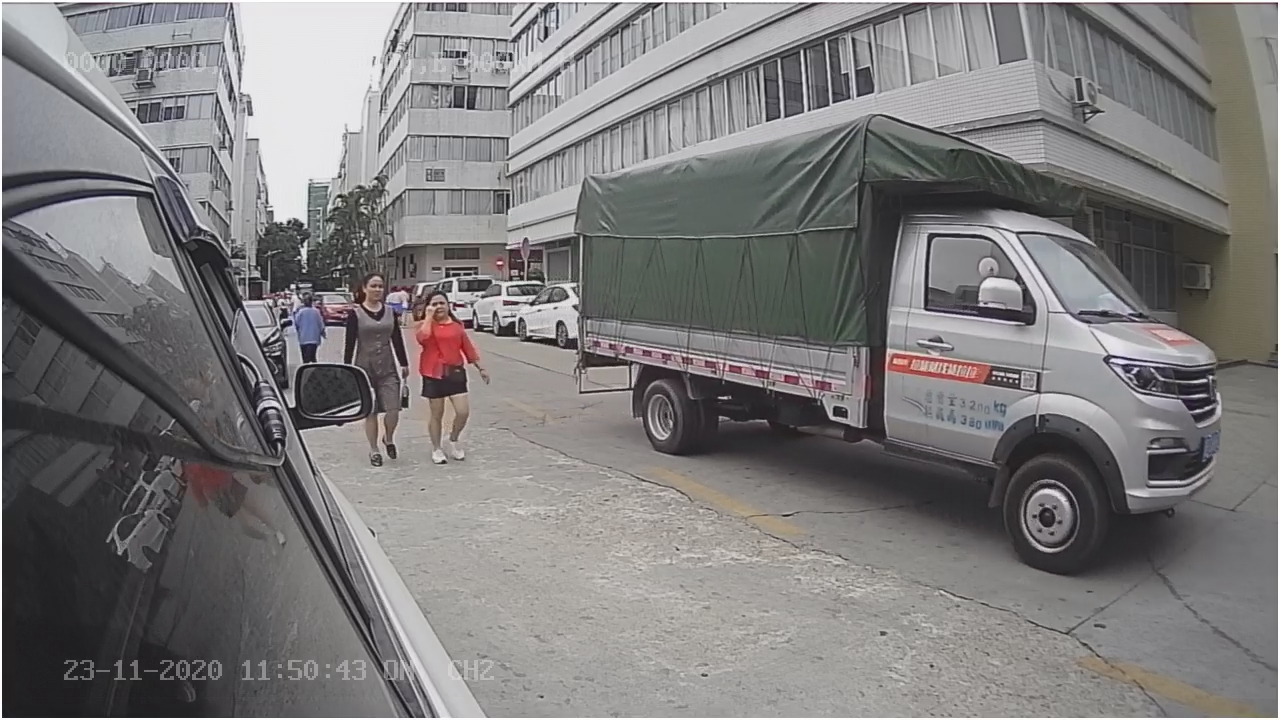person: (417, 291, 489, 466)
